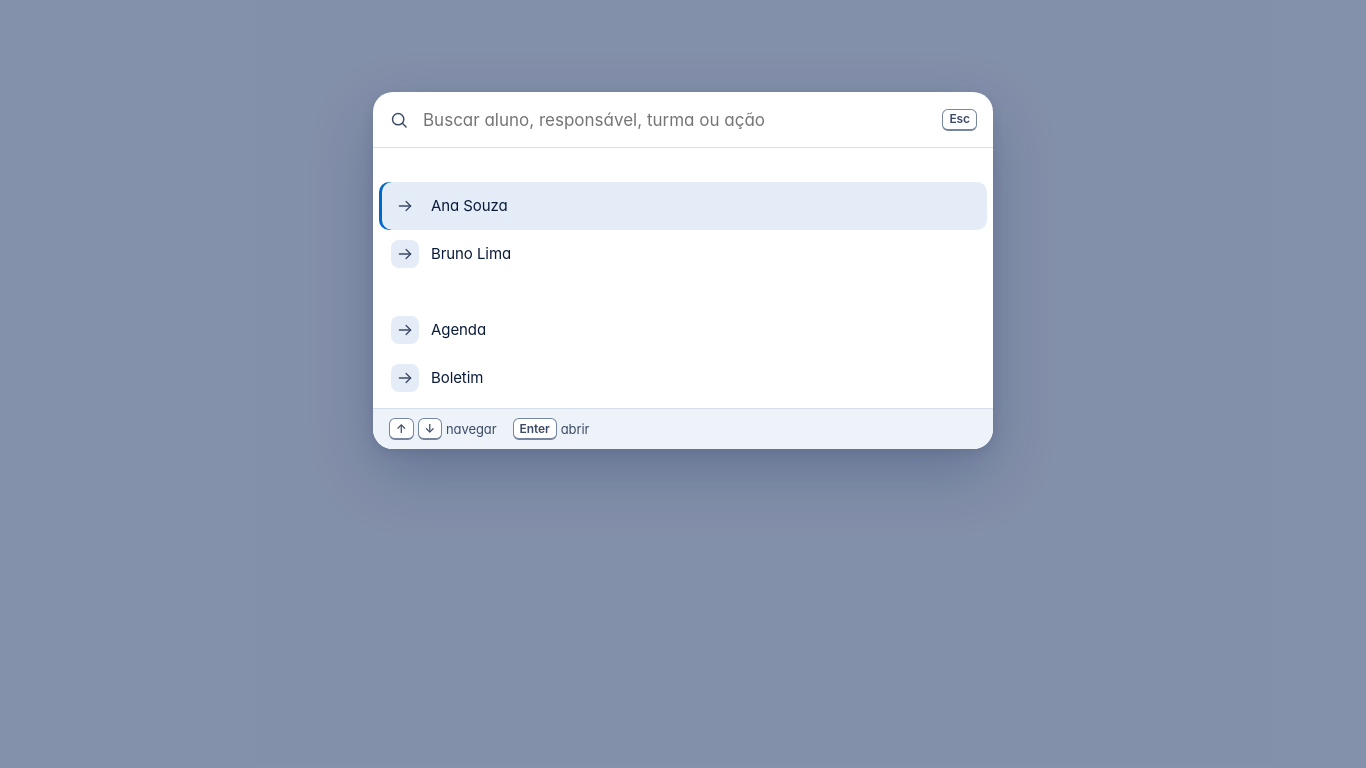
CommandPalette › digitar volta o destaque para o primeiro resultado
Press Arrowdown Arrowdown Arrowdown
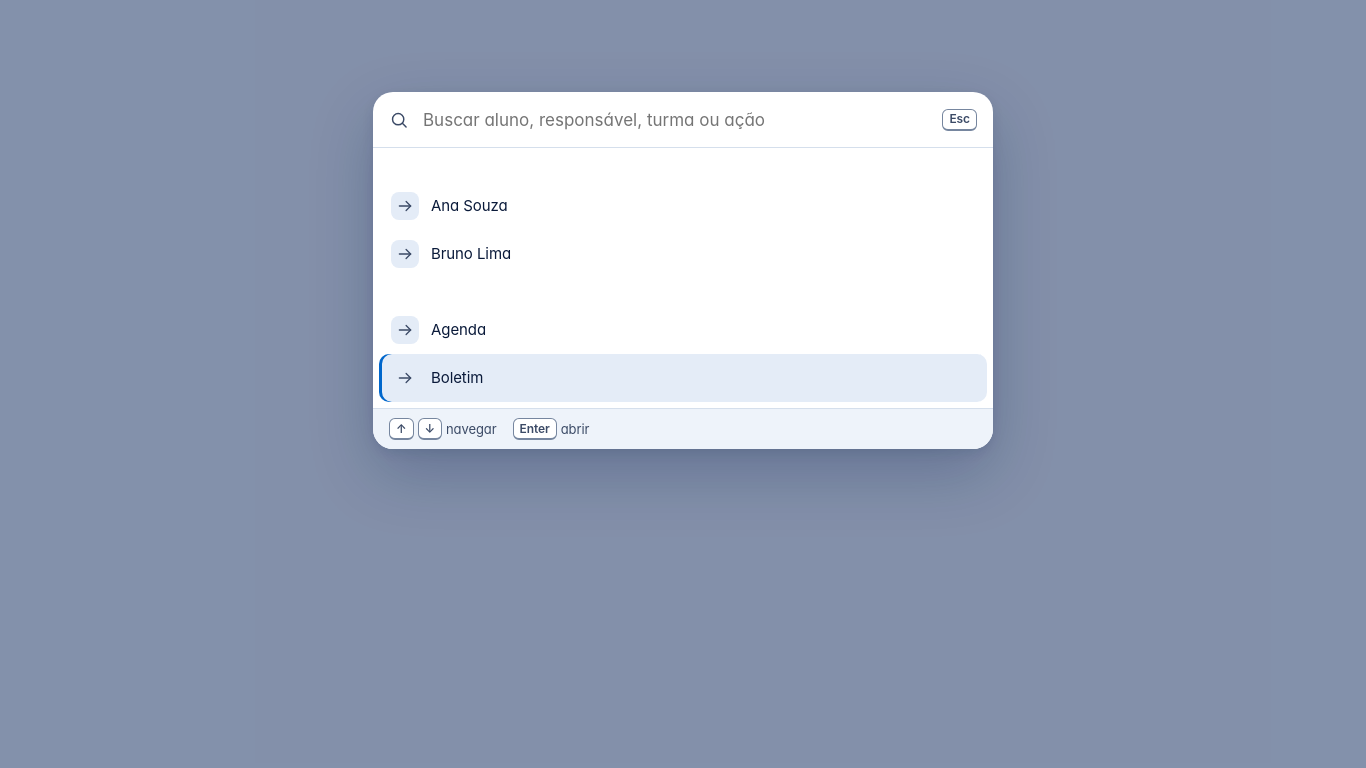
Check: the option "Boletim" is shown, box [379,354,987,402]
In the dropdown: [676, 120] box [421,107,930,133], type "b"
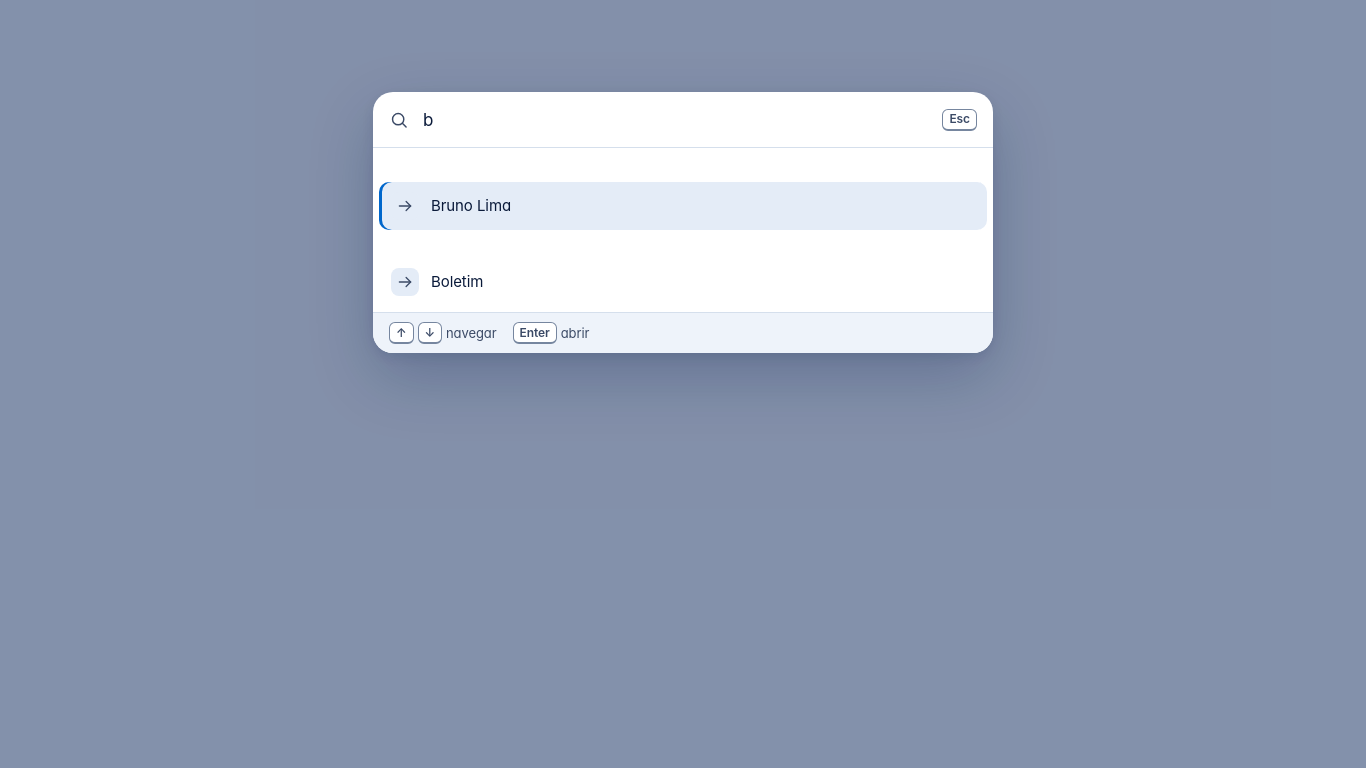
Check: the option "Bruno Lima" is shown, box [379,182,987,230]
Check: the number of options is 2, box [379,182,987,230]; [391,268,483,296]
